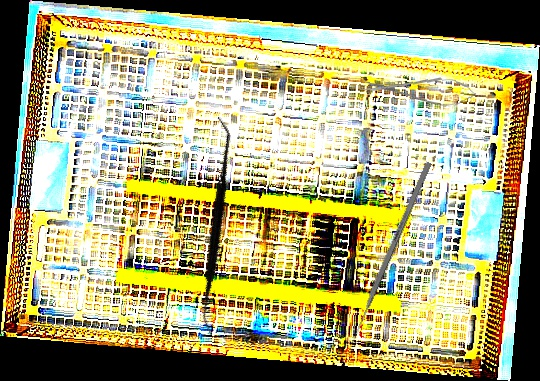Micro Scissor: (363, 72, 477, 108)
Pusher: (348, 161, 432, 346)
Spatula Surgical: (124, 116, 306, 336)
